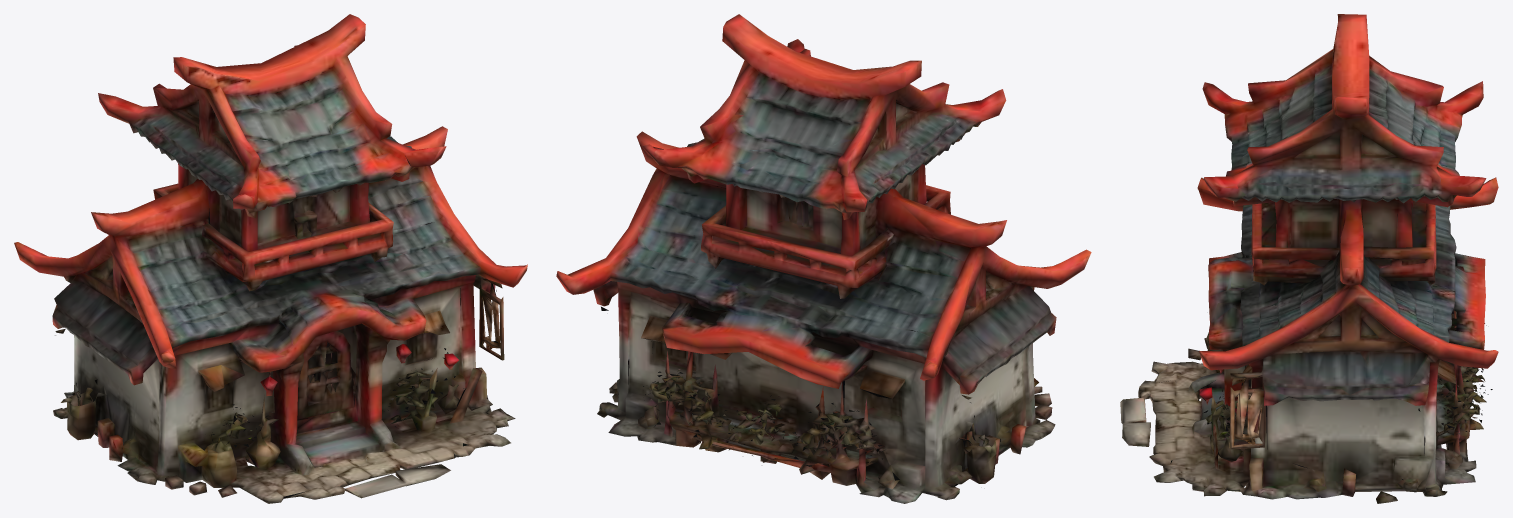
File: bq_teahouse.bk.glb
3 renders of one model, left to right at view 1: azimuth 30°, elevation 25°; view 2: azimuth 150°, elevation 25°; view 3: azimuth 270°, elevation 25°, orthographic. The views are drawn at different scales.
Parts seen in each view (by area): view 1: lo; view 2: lo; view 3: lo.
Part boxes in pixels (box(x1,y1,x2,y2)): lo: box(14, 14, 527, 503); lo: box(556, 14, 1091, 503); lo: box(1120, 14, 1498, 503).
Bounding box in the file's own units: 1.88 × 1.78 × 1.69.
1 material, 1 textured.
